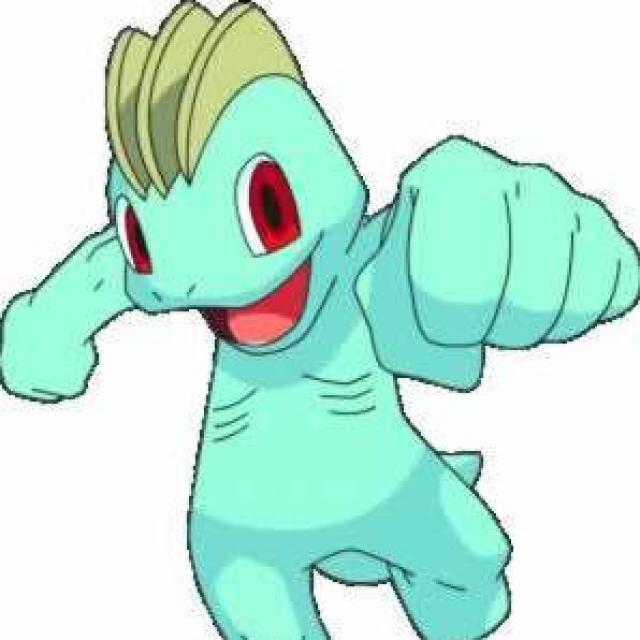Machop: (101, 5, 492, 631)
